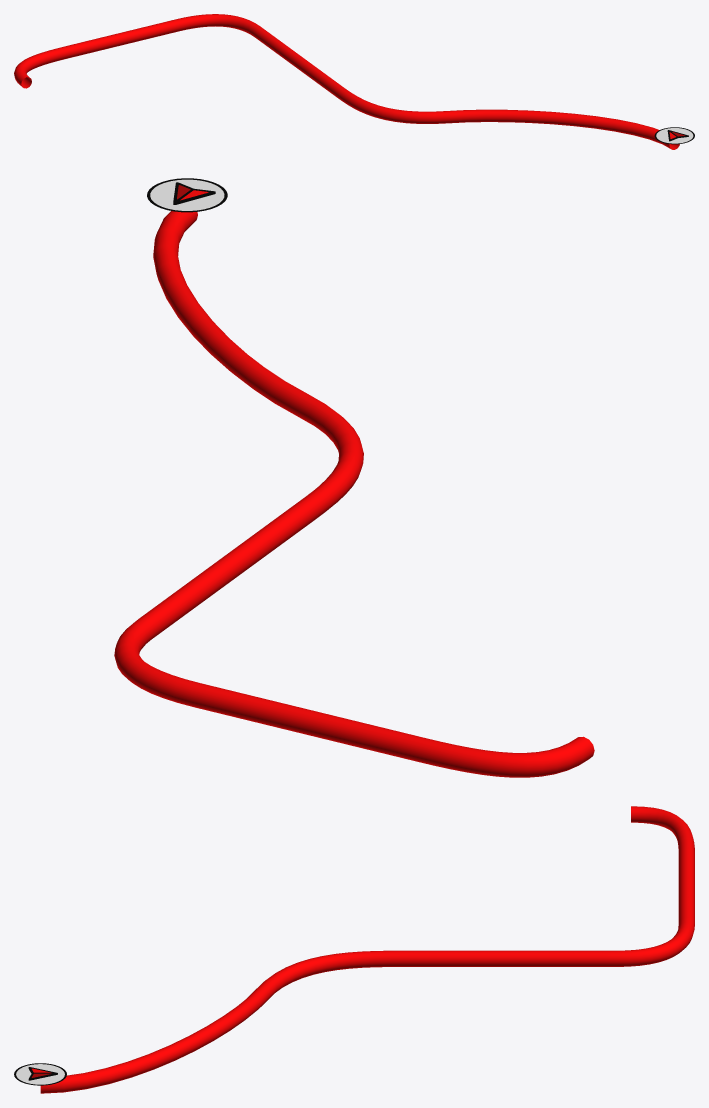
Rendered from route_9fb37032-1f8e-4d60-99a5-349b38374004_de_single.glb.
3 renders of one model, top to bottom at view 1: azimuth 30°, elevation 25°; view 2: azimuth 150°, elevation 25°; view 3: azimuth 270°, elevation 25°, orthographic. The views are drawn at different scales.
Parts seen in each view (by area): view 1: A3, Abteil 2, Navipfeil.048; view 2: A3, Abteil 2, Navipfeil.048; view 3: A3, Abteil 2, Navipfeil.048.
Boxes of the visible parts, x1,y1,x2,y2 form: A3, Abteil 2: (14, 14, 679, 149); Navipfeil.048: (654, 127, 694, 144); A3, Abteil 2: (114, 211, 594, 777); Navipfeil.048: (147, 178, 227, 212); A3, Abteil 2: (40, 806, 694, 1093); Navipfeil.048: (14, 1063, 66, 1085).
Size of the model in its own units: 3.3 by 0.1062 by 3.33.
